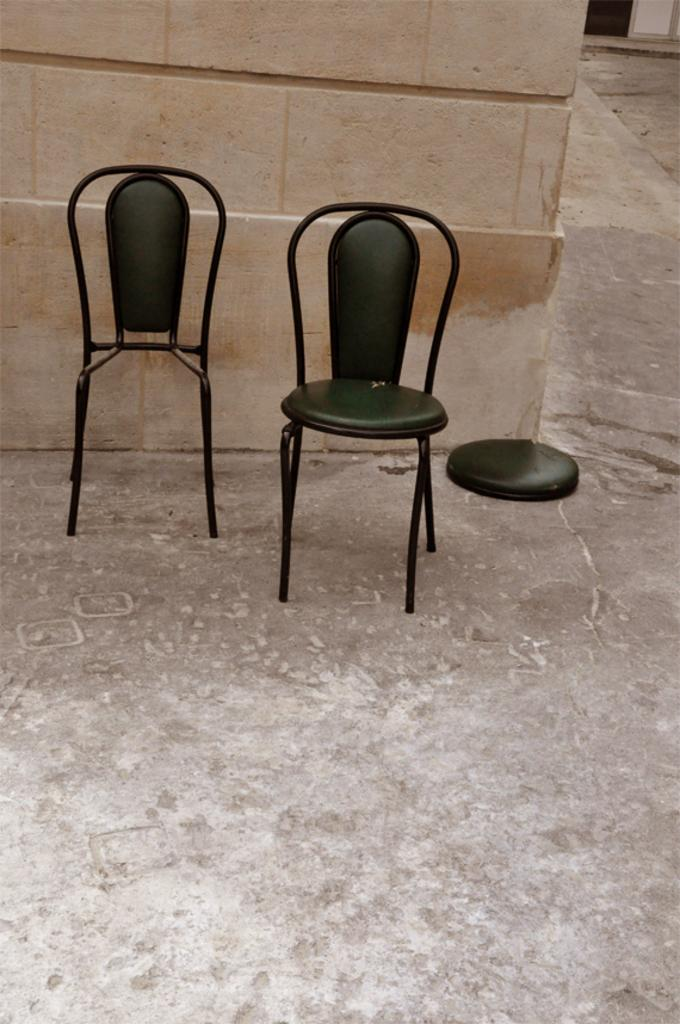Chair: (270, 190, 450, 615), (74, 162, 228, 537)
